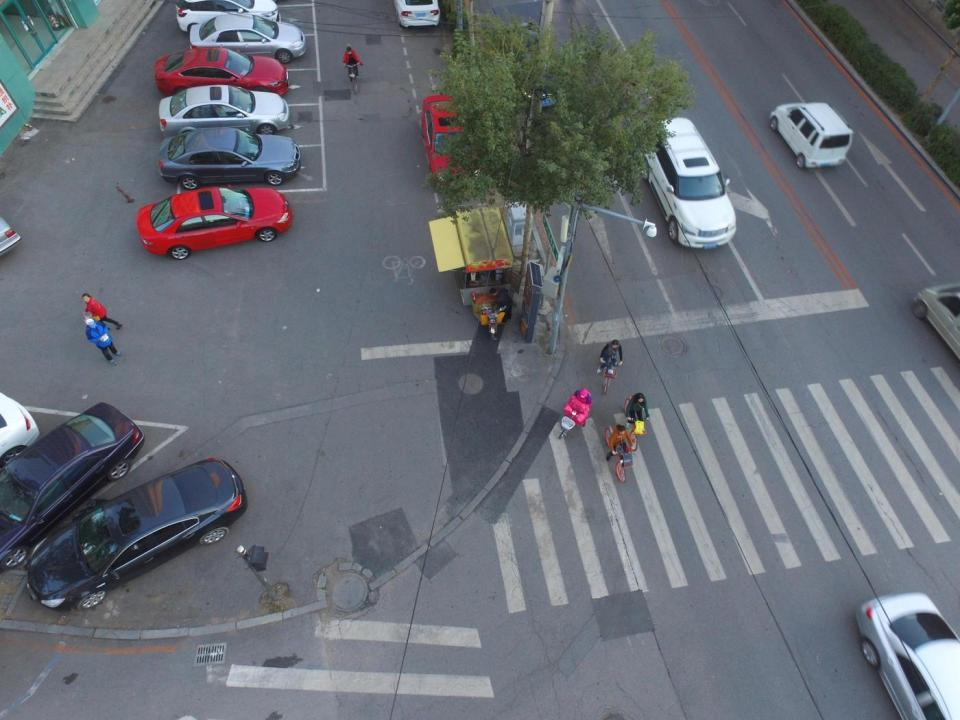car: (22, 457, 254, 611), (1, 387, 144, 575), (853, 590, 957, 720), (133, 185, 294, 258), (154, 128, 301, 189), (152, 48, 292, 109), (157, 84, 290, 142), (498, 22, 574, 120), (186, 11, 306, 66), (416, 92, 480, 186), (767, 102, 855, 170), (174, 0, 277, 36)
van: (634, 112, 738, 251)
